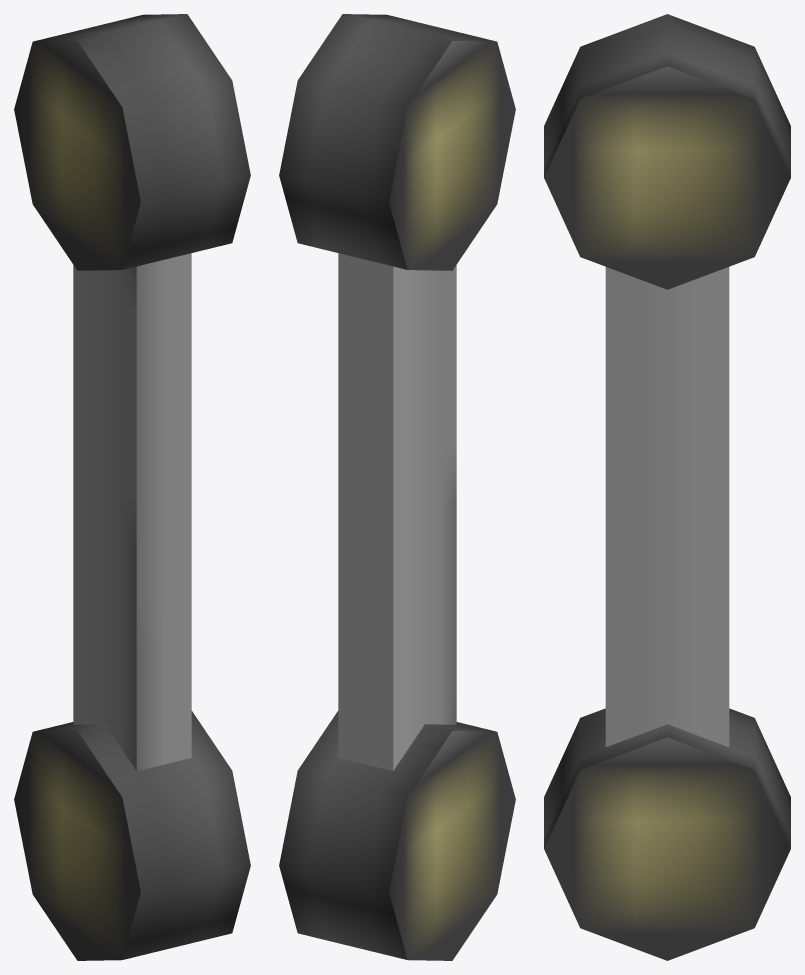
Rendered from assembly_machine_armlower2.obj.
3 renders of one model, left to right at view 1: azimuth 30°, elevation 25°; view 2: azimuth 150°, elevation 25°; view 3: azimuth 270°, elevation 25°, orthographic. The views are drawn at different scales.
Parts seen in each view (by area): view 1: ArmLower2; view 2: ArmLower2; view 3: ArmLower2.
Part boxes in pixels (x1,y1,x2,y2): ArmLower2: (14,14,250,960); ArmLower2: (279,14,515,960); ArmLower2: (544,14,790,960).
Bounding box in the file's own units: 0.125 × 1 × 0.25.
